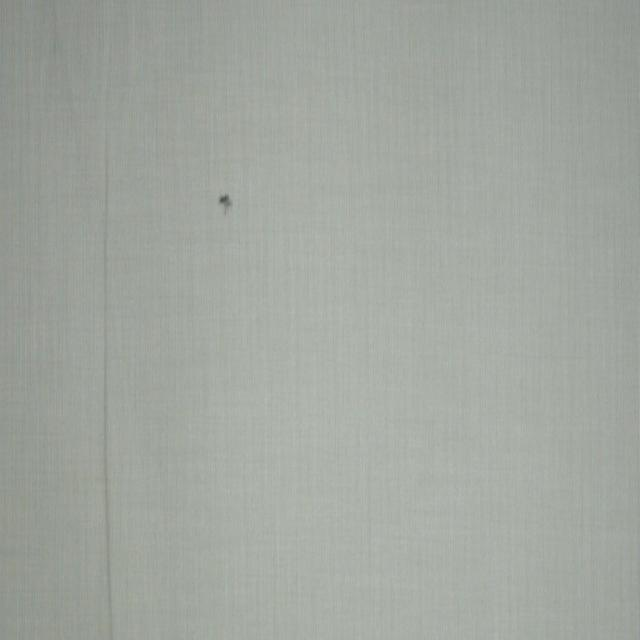dirty: (219, 192, 233, 218)
